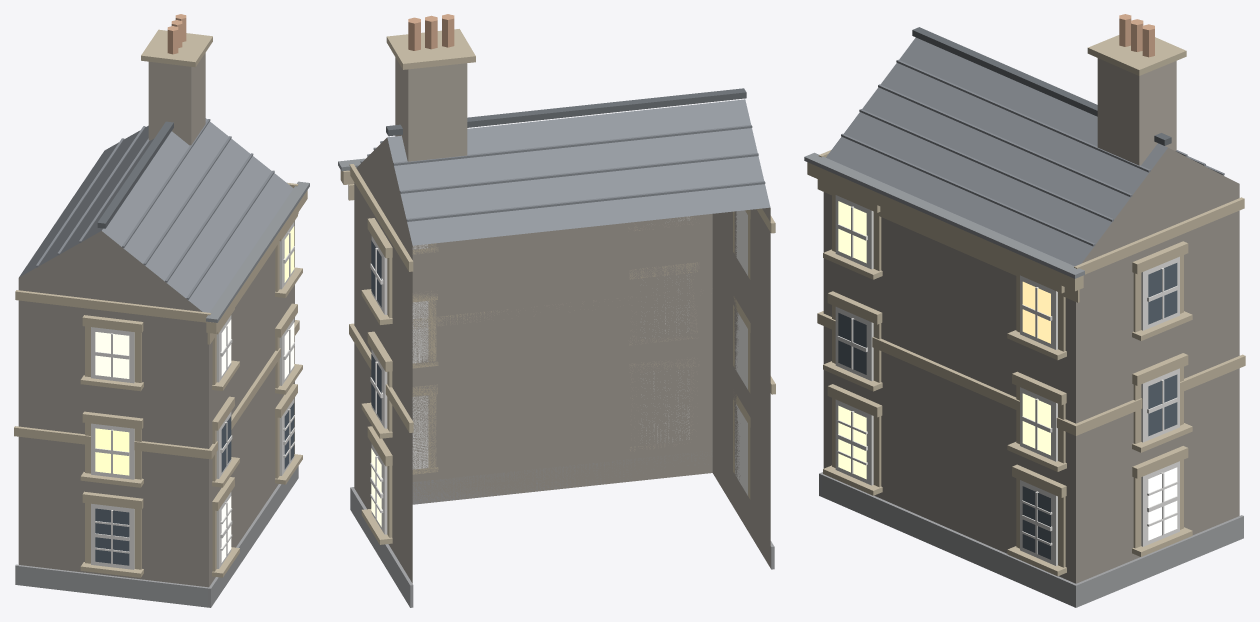
3 renders of one model, left to right at view 1: azimuth 30°, elevation 25°; view 2: azimuth 150°, elevation 25°; view 3: azimuth 270°, elevation 25°, orthographic. The views are drawn at different scales.
Visible parts, largest first — view 1: plaque, slate_lt, ss_joint, frame, windows, plinth, chim_stone, lead, slate_dk, pot; view 2: plaque, slate_lt, ss_joint, frame, chim_stone, slate_dk, plinth, windows, pot; view 3: plaque, slate_lt, ss_joint, windows, frame, plinth, chim_stone, lead, slate_dk, pot.
Part boxes in pixels (x1,y1,x2,y2): plaque: (18, 221, 294, 587); slate_lt: (19, 118, 293, 312); ss_joint: (14, 29, 307, 577); frame: (91, 222, 294, 569); windows: (95, 226, 294, 565); plinth: (15, 466, 298, 607); chim_stone: (148, 53, 205, 145); lead: (206, 181, 309, 322); slate_dk: (97, 121, 173, 228); pot: (167, 14, 186, 54); plaque: (354, 137, 770, 583); slate_lt: (360, 99, 770, 245); ss_joint: (340, 29, 775, 544); frame: (370, 210, 747, 534); chim_stone: (395, 57, 467, 161); slate_dk: (386, 88, 746, 136); plinth: (350, 453, 774, 607); windows: (371, 240, 381, 526); pot: (408, 14, 454, 50); plaque: (823, 147, 1239, 583); slate_lt: (826, 37, 1224, 266); ss_joint: (807, 35, 1245, 576); windows: (838, 201, 1177, 559); frame: (835, 195, 1179, 565); plinth: (819, 472, 1243, 607); chim_stone: (1097, 58, 1176, 165); lead: (804, 152, 1084, 278); slate_dk: (912, 27, 1171, 145); pot: (1119, 14, 1154, 57).
Size of the model in its own units: 8.21 by 10.8 by 8.12.
